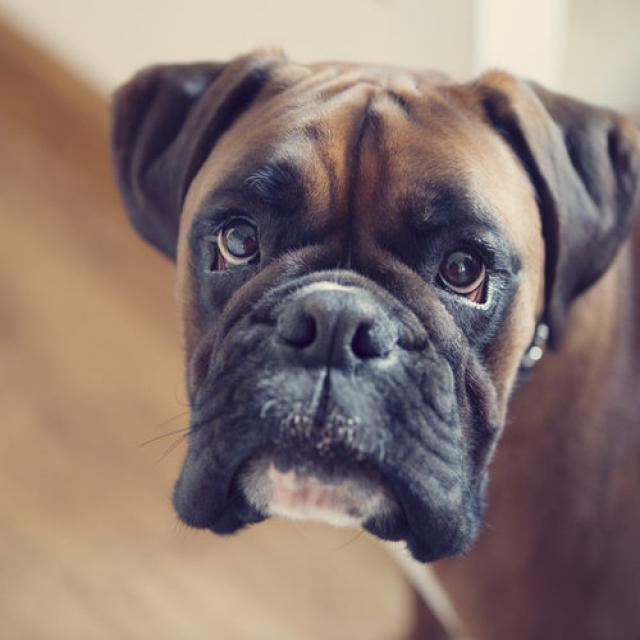eye: (430, 237, 493, 307), (207, 207, 264, 273)
